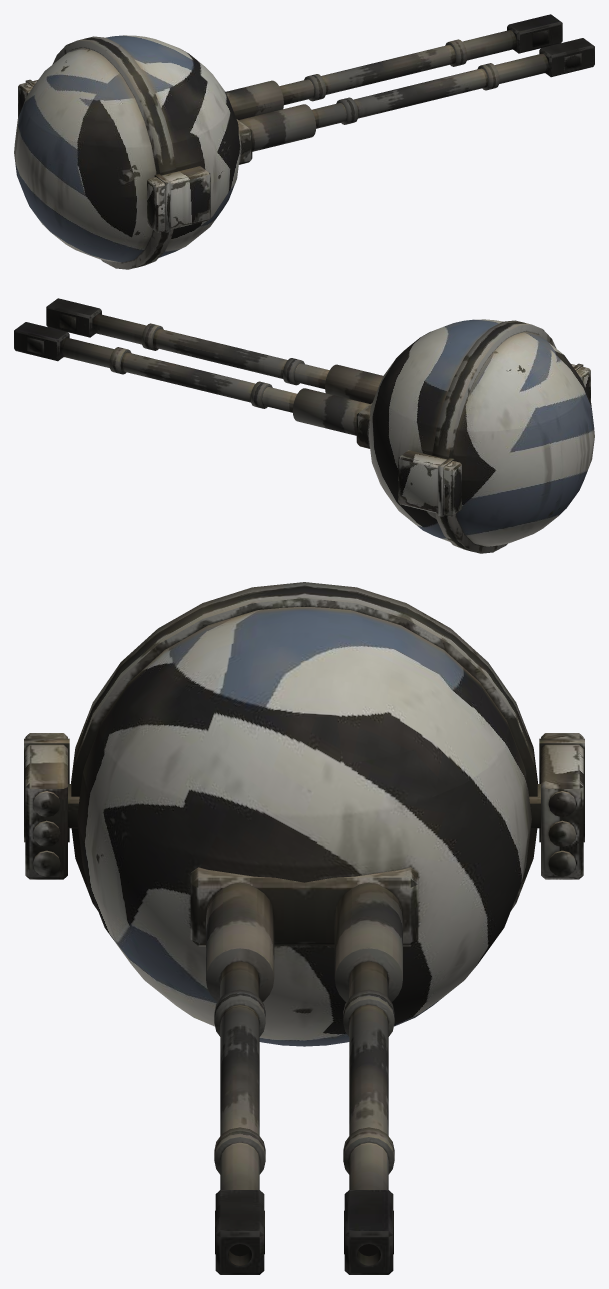
Rendered from turret_kit_tail_ball_t2_dazzle.glb.
3 renders of one model, top to bottom at view 1: azimuth 30°, elevation 25°; view 2: azimuth 150°, elevation 25°; view 3: azimuth 270°, elevation 25°, orthographic. The views are drawn at different scales.
Parts seen in each view (by area): view 1: turret_tail_ball_t2, pods; view 2: turret_tail_ball_t2, pods; view 3: turret_tail_ball_t2, pods.
Part boxes in pixels (x1,y1,x2,y2): turret_tail_ball_t2: (14, 14, 594, 269); pods: (18, 79, 210, 232); turret_tail_ball_t2: (14, 298, 594, 553); pods: (398, 363, 590, 516); turret_tail_ball_t2: (71, 582, 537, 1274); pods: (24, 733, 584, 879).
Bounding box in the file's own units: 1.66 × 0.62 × 0.7402.
Materials: 2 (2 with a texture image).
